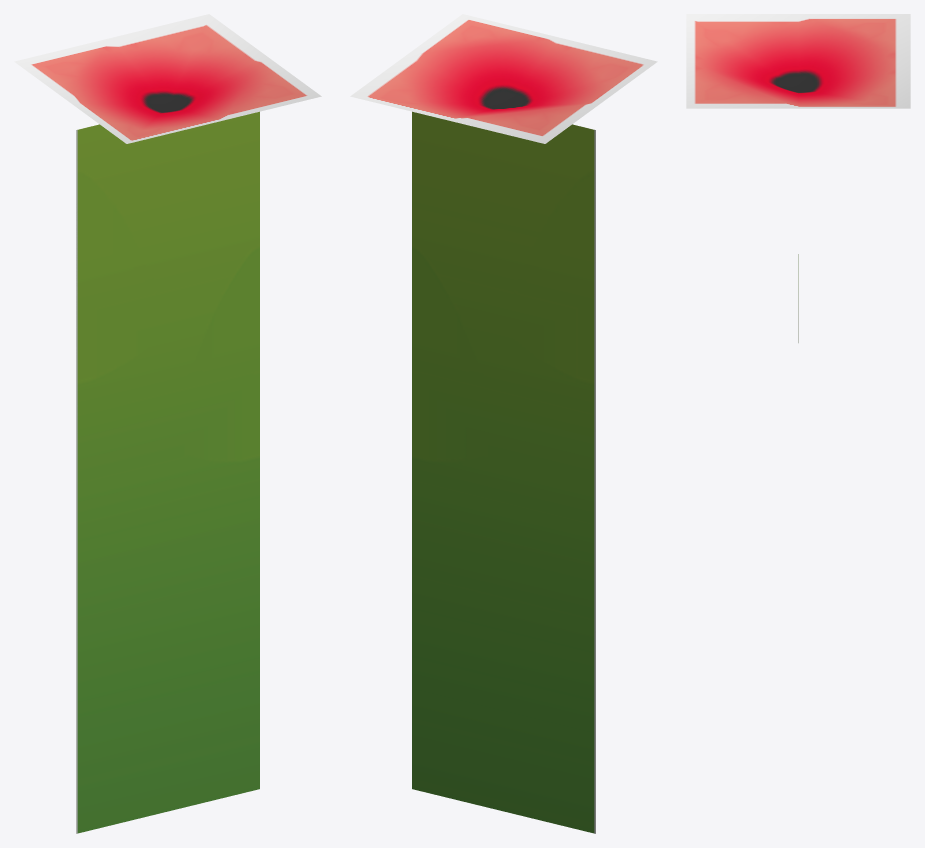
File: Flower_02.glb
3 views of the same model, side by side, from view 1: azimuth 30°, elevation 25°; view 2: azimuth 150°, elevation 25°; view 3: azimuth 270°, elevation 25° (orthographic).
Visible parts, largest first — view 1: Flower_02_LOD0; view 2: Flower_02_LOD0; view 3: Flower_02_LOD0.
Boxes of the visible parts, <box> form: Flower_02_LOD0: <box>14,14,321,833</box>; Flower_02_LOD0: <box>350,14,657,833</box>; Flower_02_LOD0: <box>686,14,910,342</box>.
Size of what is drawn, in the model's own units: 0.1049 by 0.376 by 0.1049.
1 material, 1 textured.
